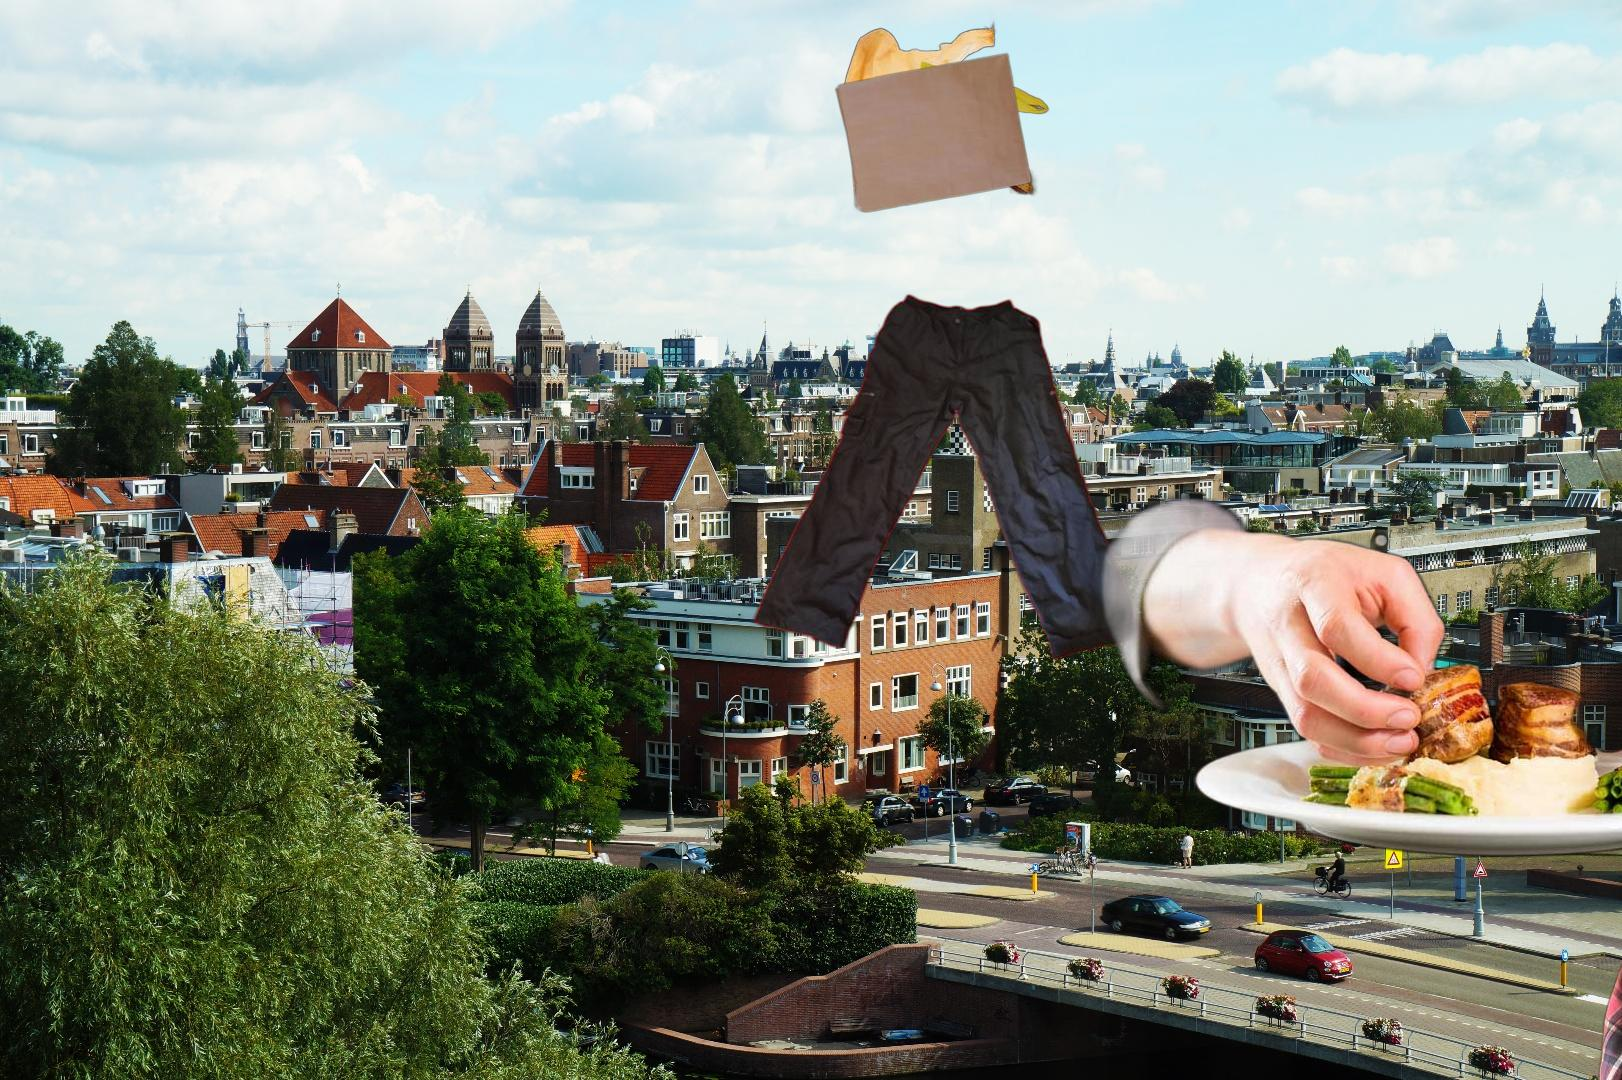biological: (1048, 382, 1622, 862)
clothes: (750, 290, 1148, 663), (1563, 861, 1622, 1080)
paper-bag: (793, 49, 1034, 215)
plastic-bag: (839, 12, 1051, 198)
